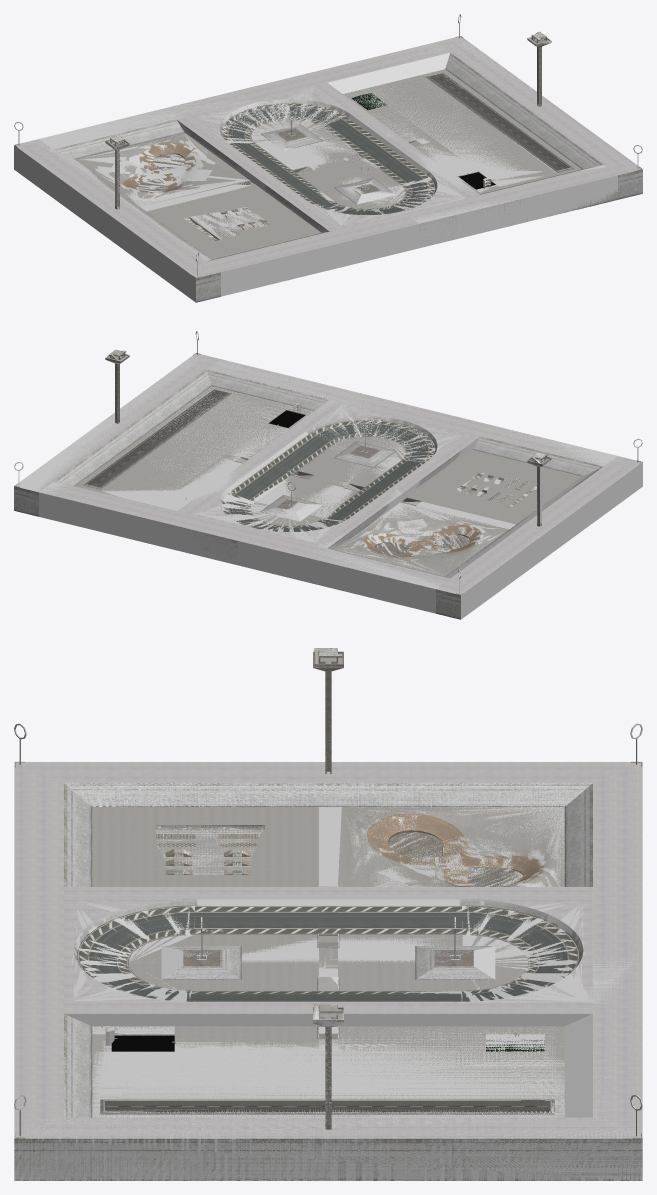
File: vehicles_world.glb
The picture shows the model from 3 angles, top to bottom: view 1: azimuth 30°, elevation 25°; view 2: azimuth 150°, elevation 25°; view 3: azimuth 270°, elevation 25°; orthographic projection. The views are drawn at different scales.
Visible parts, largest first — view 1: Plane, Cube.006, Cube.011, Cube.065, BezierCircle, Cube.056, Cube.054, Cube.009, Cube.082, Cube.068, Cube.072, Cube.007 (+16 smaller); view 2: Plane, BezierCircle, Cube.054, Cube.055, Cube.065, Cube.056, Cube, Cube.009, Cube.006, Cube.082, Cube.064, Cube.011 (+15 smaller); view 3: Plane, Cube, Cube.056, BezierCircle, Cube.066, Cube.009, Cube.077, Cube.064, Cube.082, Cube.068, Cube.007, Cube.581 (+16 smaller).
Part boxes in pixels (left/top/right/bottom): Plane: left=14, top=36, right=642, bottom=302; Cube.006: left=411, top=165, right=617, bottom=247; Cube.011: left=221, top=214, right=419, bottom=296; Cube.065: left=14, top=139, right=195, bottom=302; BezierCircle: left=75, top=132, right=248, bottom=205; Cube.056: left=366, top=71, right=543, bottom=186; Cube.054: left=39, top=93, right=250, bottom=149; Cube.009: left=425, top=73, right=574, bottom=172; Cube.082: left=251, top=120, right=358, bottom=170; Cube.068: left=327, top=53, right=449, bottom=93; Cube.072: left=189, top=207, right=265, bottom=239; Cube.007: left=260, top=124, right=322, bottom=148; Plane: left=14, top=354, right=642, bottom=619; BezierCircle: left=335, top=504, right=509, bottom=576; Cube.054: left=237, top=541, right=441, bottom=613; Cube.055: left=39, top=482, right=237, bottom=564; Cube.065: left=437, top=456, right=642, bottom=619; Cube.056: left=102, top=387, right=289, bottom=505; Cube: left=16, top=353, right=217, bottom=491; Cube.009: left=83, top=389, right=231, bottom=489; Cube.006: left=207, top=359, right=417, bottom=410; Cube.082: left=251, top=480, right=352, bottom=525; Cube.064: left=155, top=458, right=242, bottom=511; Cube.011: left=430, top=415, right=617, bottom=466; Plane: left=14, top=762, right=642, bottom=1180; Cube: left=14, top=1117, right=642, bottom=1180; Cube.056: left=92, top=1051, right=564, bottom=1117; BezierCircle: left=342, top=807, right=564, bottom=886; Cube.066: left=65, top=783, right=592, bottom=806; Cube.009: left=100, top=1099, right=554, bottom=1114; Cube.077: left=65, top=1001, right=592, bottom=1026; Cube.064: left=338, top=1026, right=563, bottom=1051; Cube.082: left=338, top=935, right=528, bottom=989; Cube.068: left=564, top=1014, right=592, bottom=1117; Cube.007: left=415, top=946, right=494, bottom=979; Cube.581: left=162, top=946, right=241, bottom=979.
Size of what is drawn, in the model's own units: 399 by 80.33 by 281.
14 materials, 13 textured.
